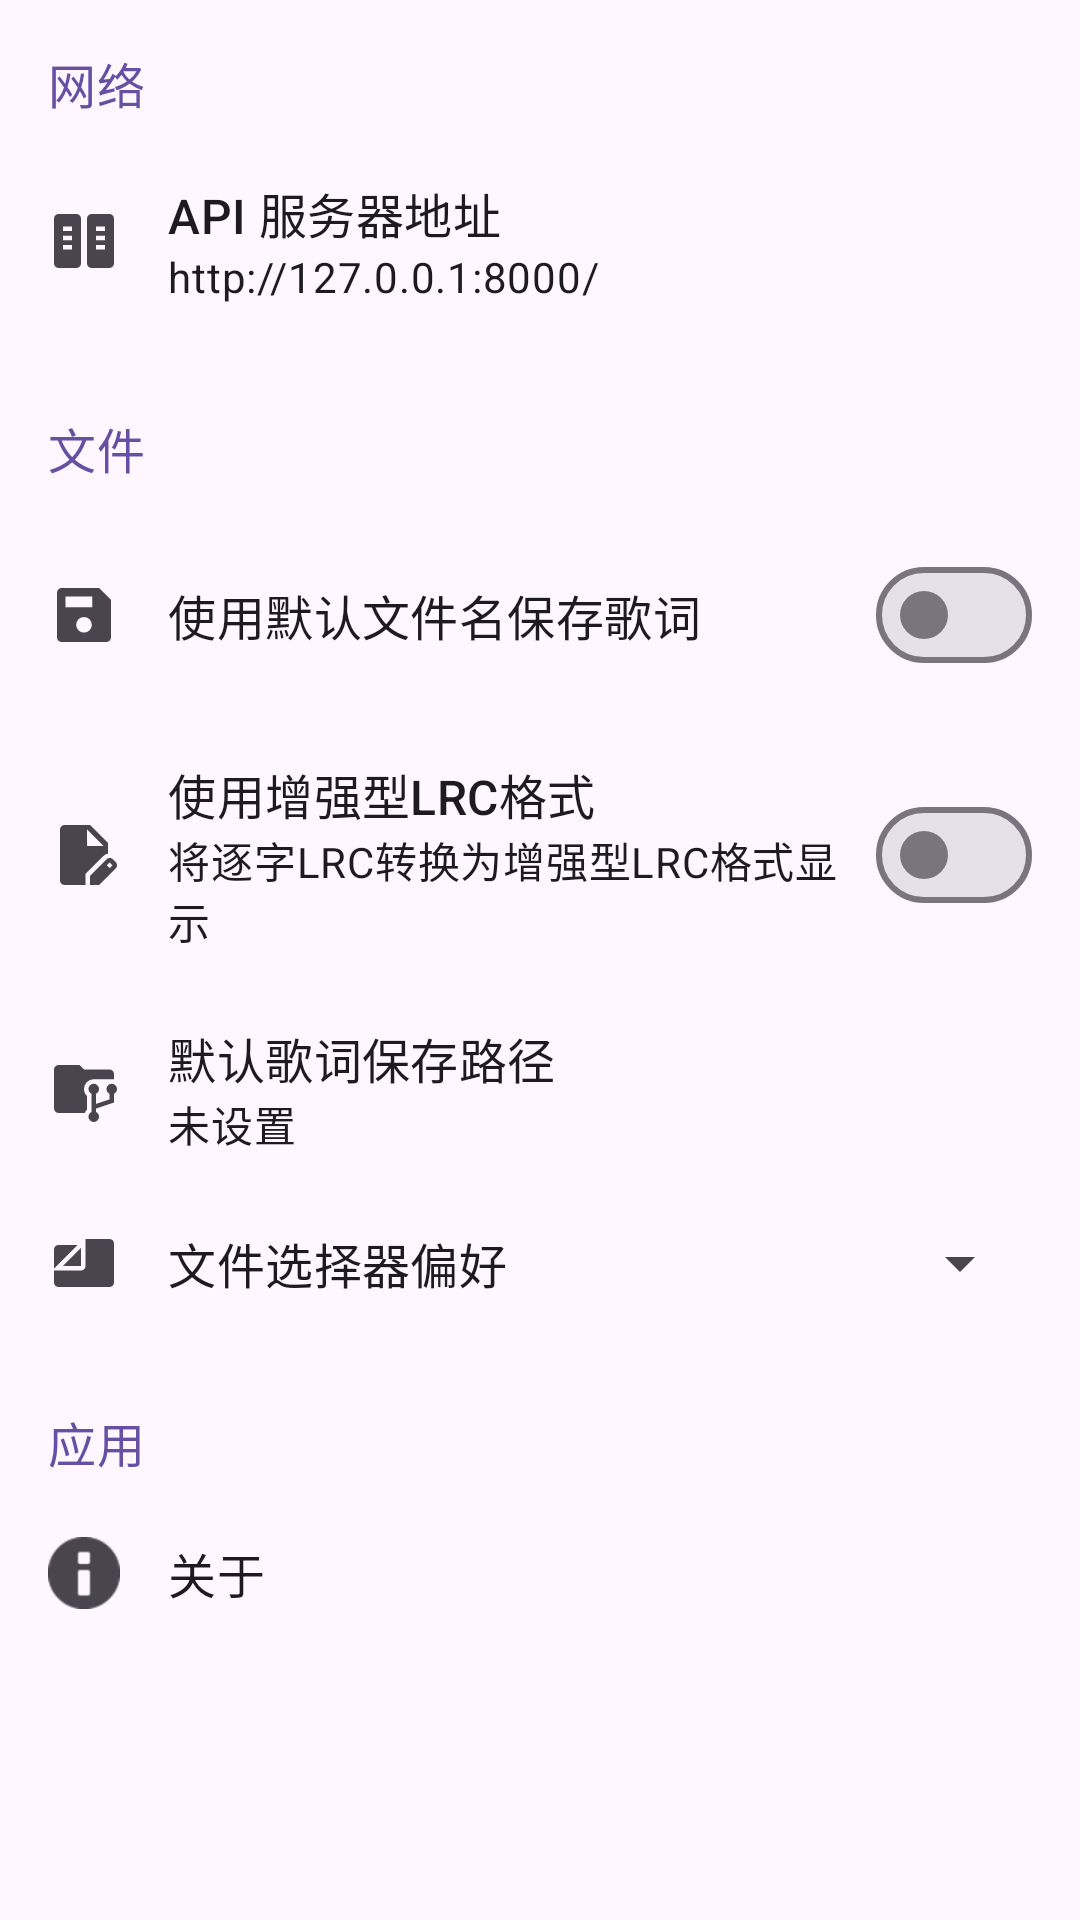

Icon click points for this 1080*1920 phone screenshot, format [x,y]:
edit: [88,855]
info: [84,1573]
save: [84,615]
server: [84,241]
